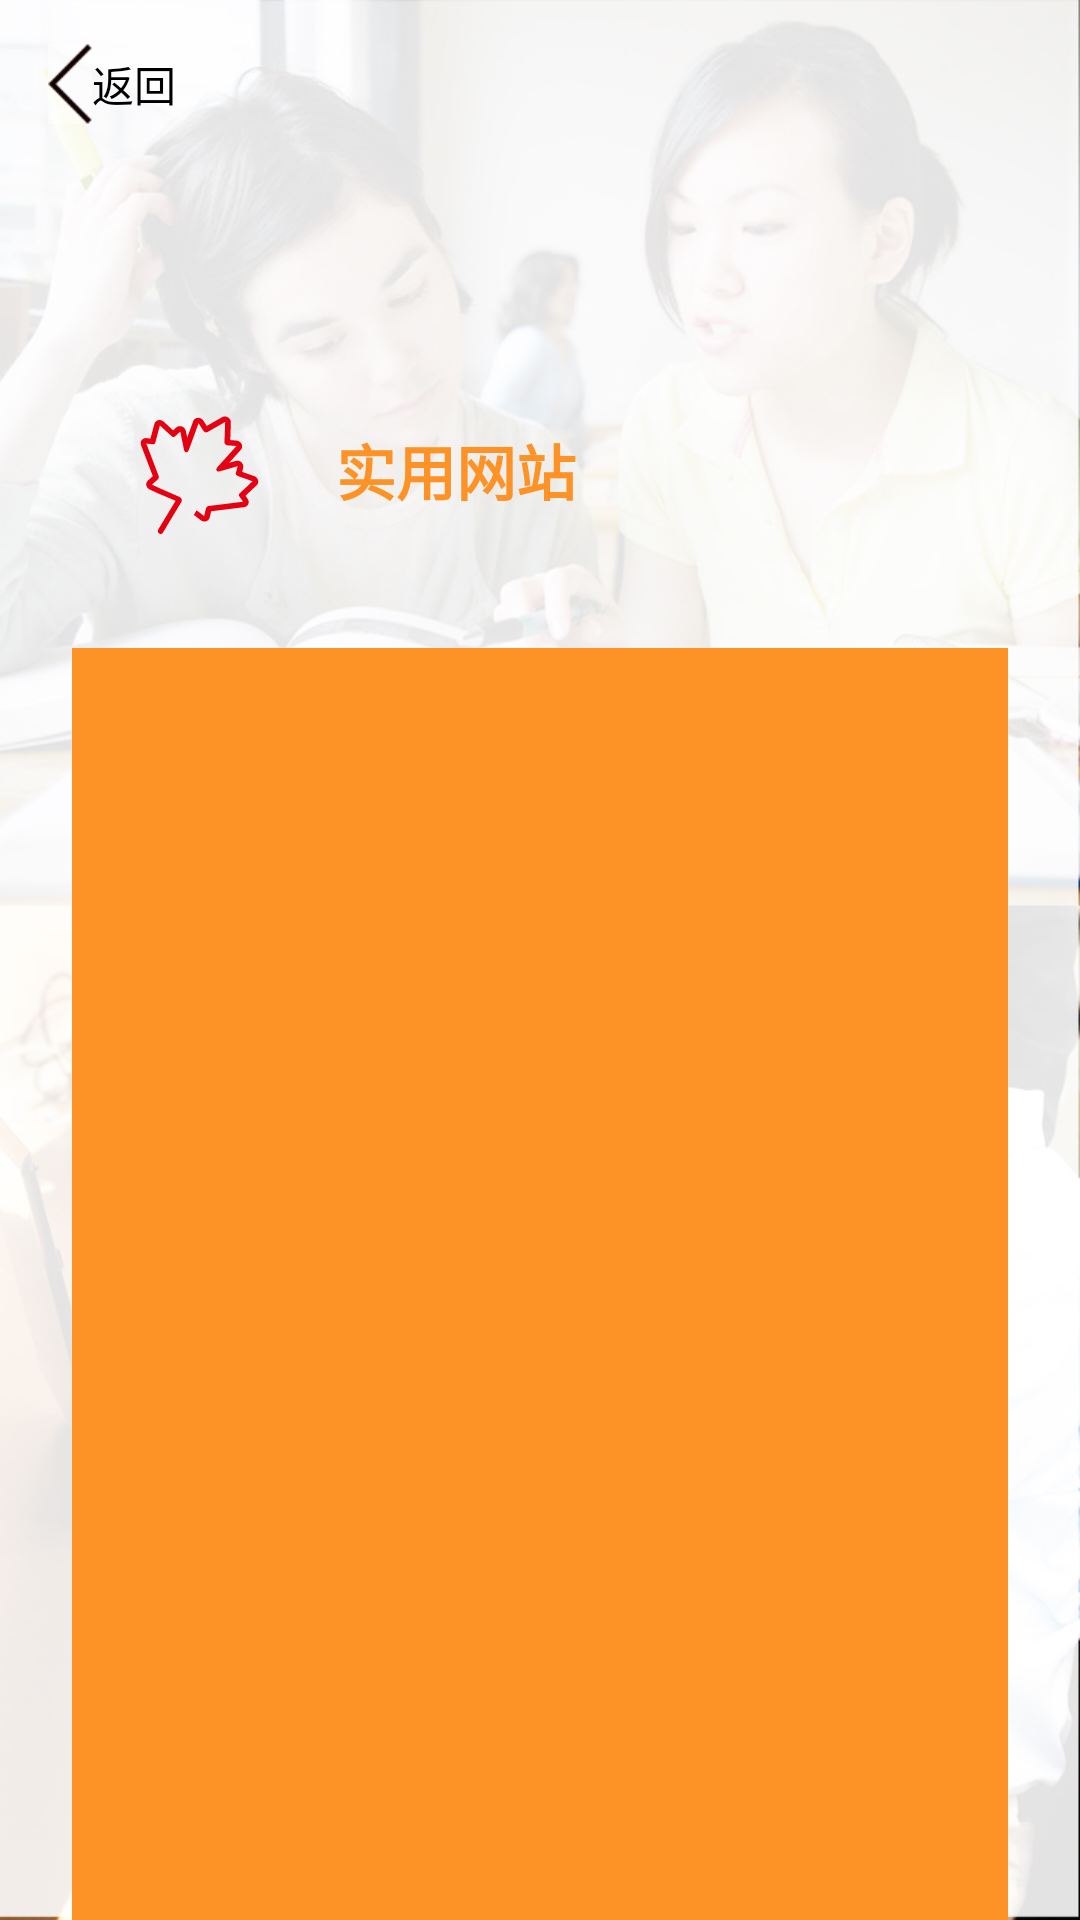

Icon bounding boxes for this 1080 × 1920 phone screenshot, format (x1, y1, x2, y2):
leaf: (140, 416, 259, 534)
